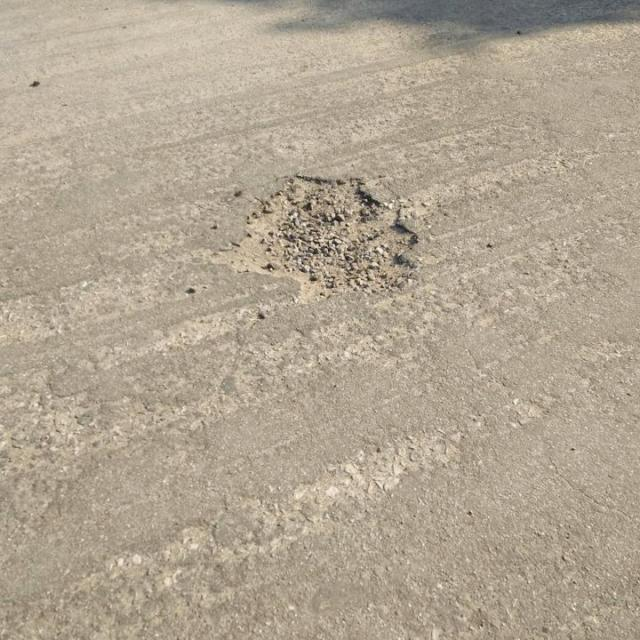pothole: (206, 158, 442, 318)
